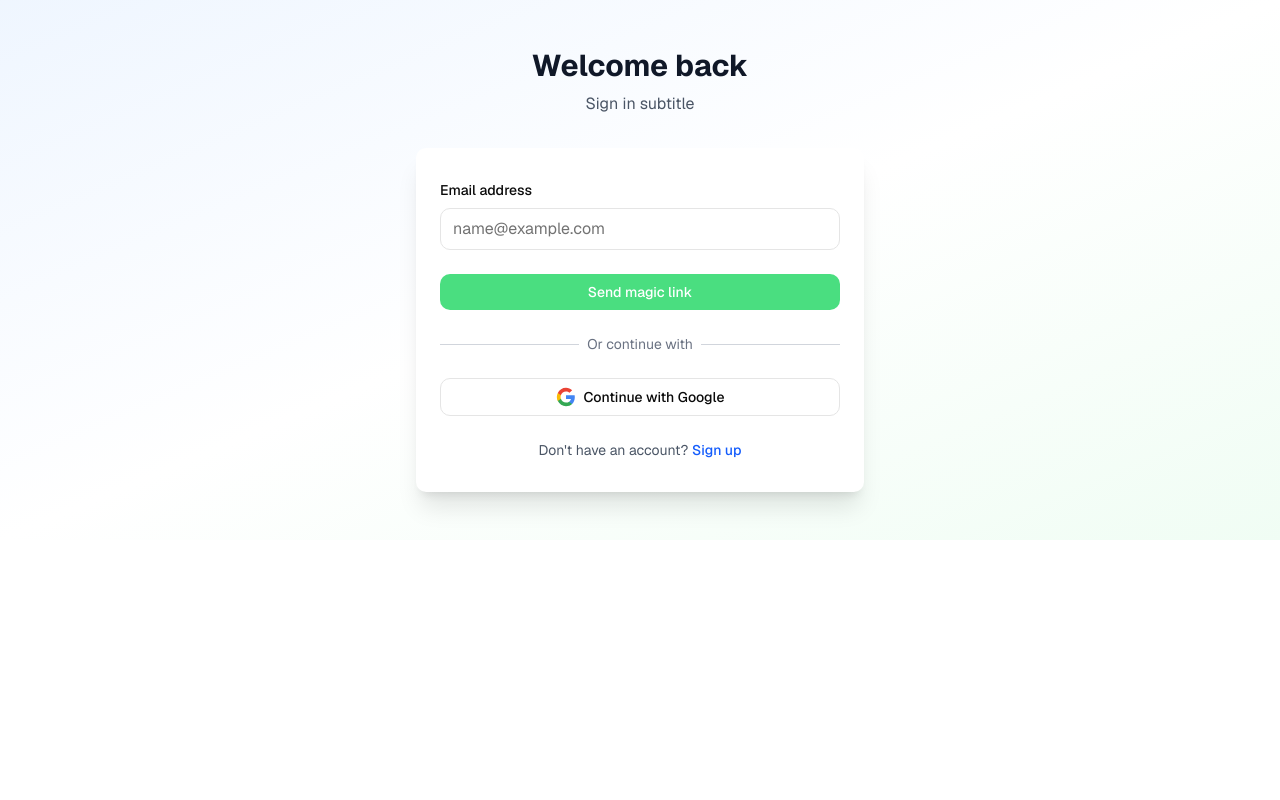
Scenario: SignInPage › submits the email flow and shows a success status
The image size is (1280, 800).
Step 1. Type "user@example.com" into the field labelled "Email address" → x=640, y=229, box x1=440 y1=208 x2=840 y2=250
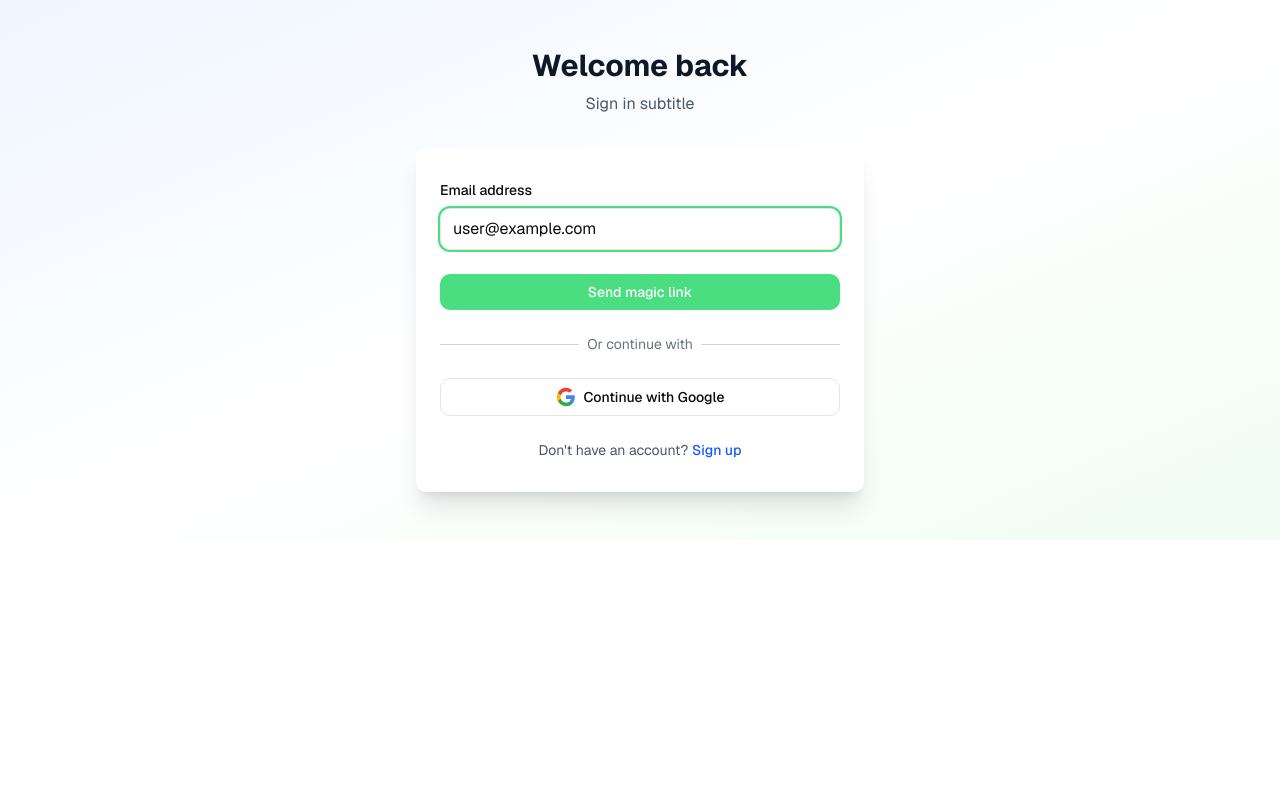
Step 2. Click the button "Send magic link" → x=640, y=292, box x1=440 y1=274 x2=840 y2=310
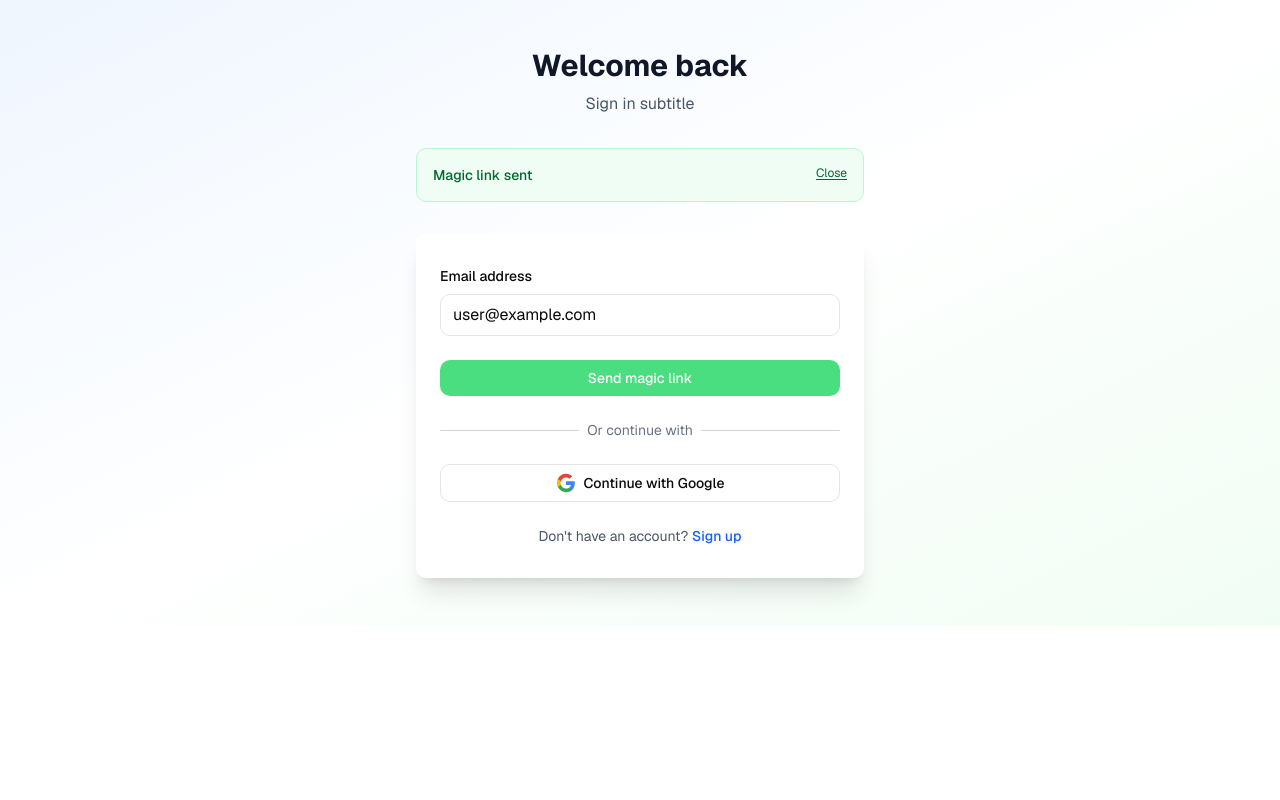
Check: the text "Magic link sent" is shown, box x1=433 y1=165 x2=533 y2=185
